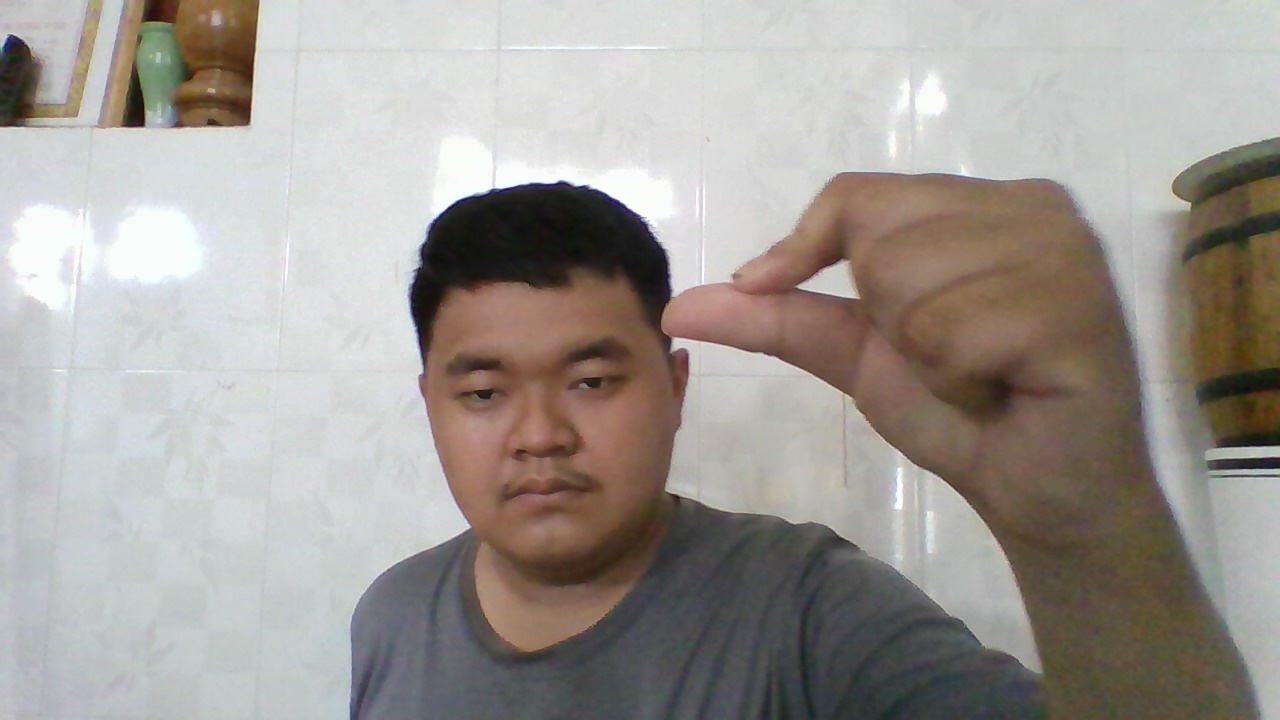S: (680, 174, 1101, 544)
